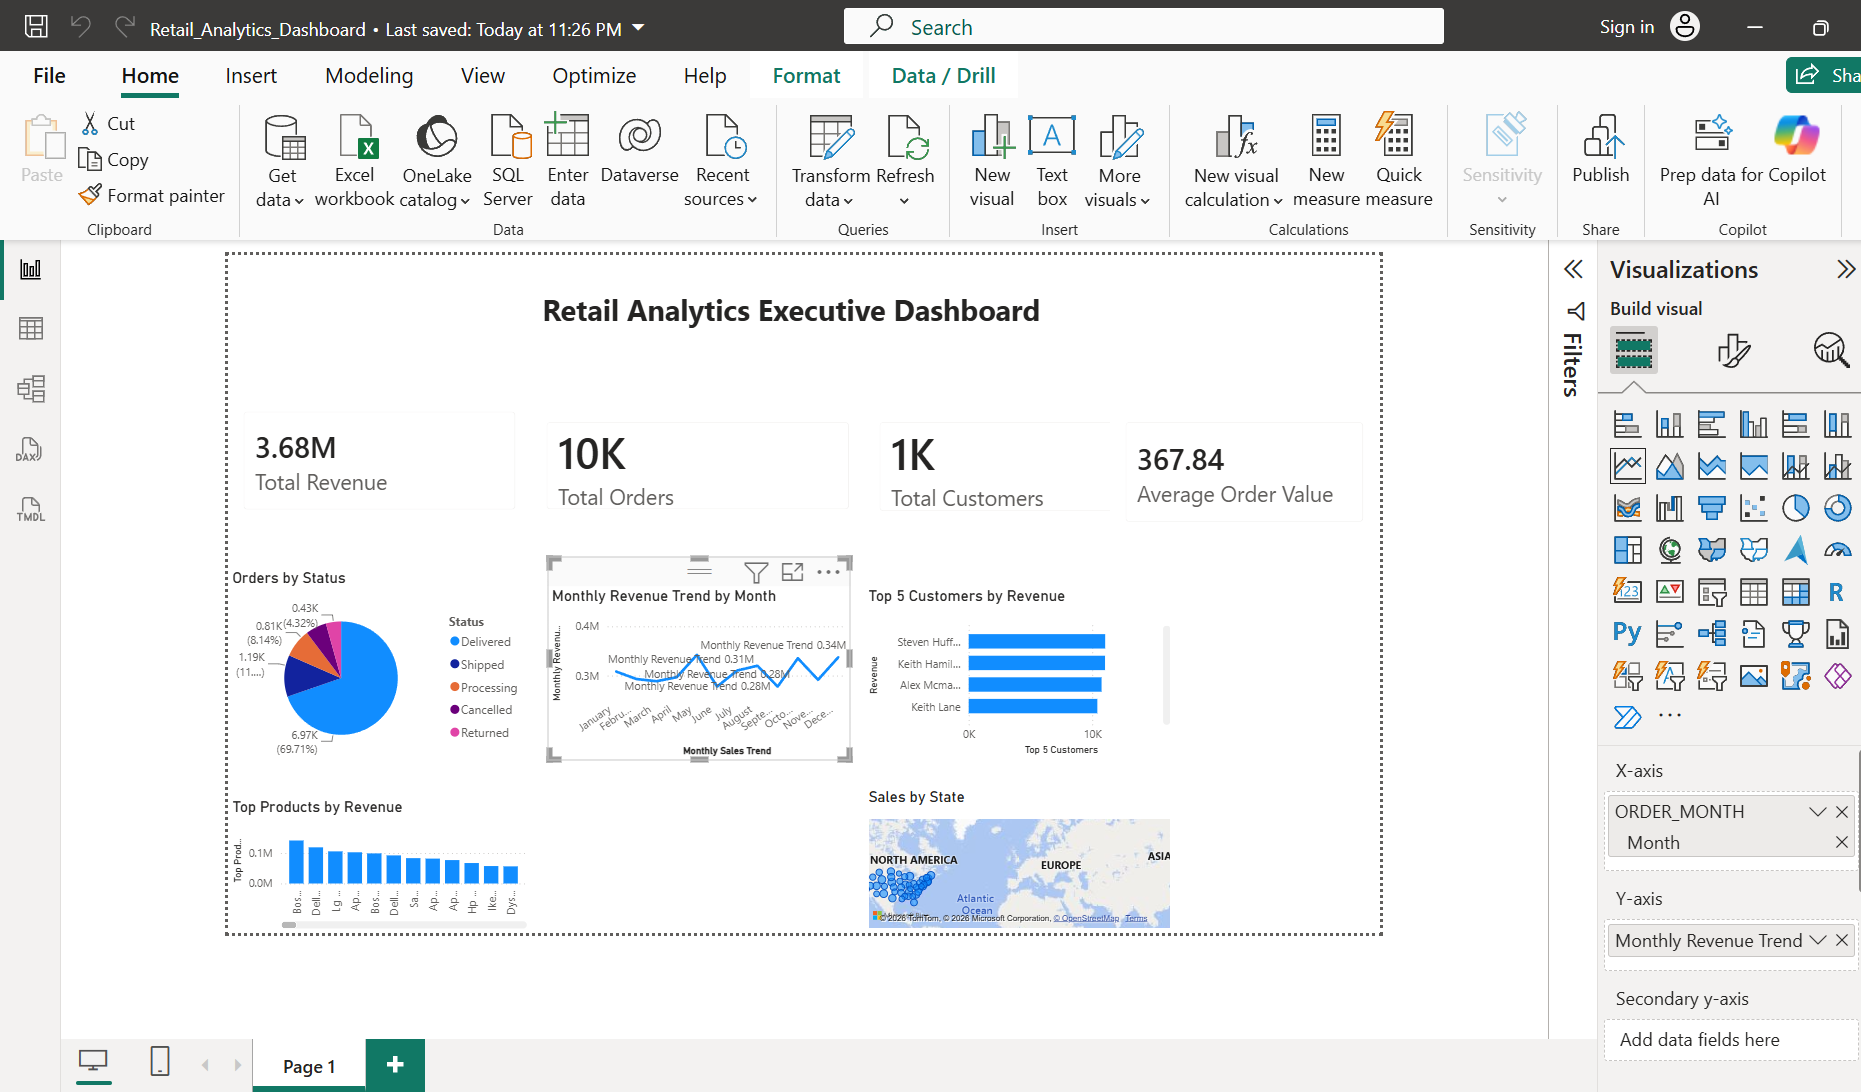

The page's visual inventory and layout, read from the dashboard file:
{"tool":"powerbi","page":{"name":"Page 1","canvas":[1280,720],"ordinal":0},"visuals":[{"type":"cardVisual","fields":{"Data":["CountNonNull(FACT_ORDERS.ORDER_ID)"]},"box":[336.7,135,370,131.7],"z":1000},{"type":"cardVisual","fields":{"Data":["CountNonNull(DIM_CUSTOMERS.CUSTOMER_ID)"]},"box":[706.7,135,356.7,133.3],"z":2000},{"type":"lineChart","fields":{"Category":["FACT_ORDERS.ORDER_MONTH.Variation.Date Hierarchy.Month"],"Y":["Sum(FACT_ORDERS.TOTAL_AMOUNT)"]},"box":[355,335,336.7,193.3],"z":3000},{"type":"pieChart","fields":{"Category":["FACT_ORDERS.ORDER_STATUS"],"Y":["CountNonNull(FACT_ORDERS.ORDER_ID)"]},"box":[0,315,336.7,213.3],"z":4000},{"type":"clusteredColumnChart","fields":{"Category":["DIM_PRODUCTS.PRODUCT_NAME"],"Y":["Sum(FACT_ORDERS.TOTAL_AMOUNT)"]},"box":[0,570,336.7,150],"z":5000},{"type":"map","title":"Sales by State","fields":{"Category":["FACT_ORDERS.SHIPPING_STATE"],"Size":["Sum(FACT_ORDERS.TOTAL_AMOUNT)"]},"box":[706.7,558.3,345,161.7],"z":6000},{"type":"clusteredBarChart","fields":{"Category":["DIM_CUSTOMERS.FULL_NAME"],"Y":["Sum(FACT_ORDERS.TOTAL_AMOUNT)"]},"box":[706.7,335,345,191.7],"z":7000},{"type":"textbox","box":[0,0,1279.4,134.2],"z":8001},{"type":"cardVisual","fields":{"Data":["Sum(FACT_ORDERS.TOTAL_AMOUNT)"]},"box":[0,123.3,336.7,143.3],"z":8002},{"type":"cardVisual","fields":{"Data":["DIM_CUSTOMERS.Average Order Value"]},"box":[980,135,298.3,145],"z":8003}]}

Visuals, with their boxes on the page's 1280x720 design canvas (x1, y1, x2, y2). These are canvas units, not pixel positions in the 1861x1092 screenshot, which may show the page scaled, cropped or inside an application window:
cardVisual - CountNonNull(FACT_ORDERS.ORDER_ID): x1=337, y1=135, x2=707, y2=267
cardVisual - CountNonNull(DIM_CUSTOMERS.CUSTOMER_ID): x1=707, y1=135, x2=1063, y2=268
lineChart - FACT_ORDERS.ORDER_MONTH.Variation.Date Hierarchy.Month x Sum(FACT_ORDERS.TOTAL_AMOUNT): x1=355, y1=335, x2=692, y2=528
pieChart - FACT_ORDERS.ORDER_STATUS x CountNonNull(FACT_ORDERS.ORDER_ID): x1=0, y1=315, x2=337, y2=528
clusteredColumnChart - DIM_PRODUCTS.PRODUCT_NAME x Sum(FACT_ORDERS.TOTAL_AMOUNT): x1=0, y1=570, x2=337, y2=720
"Sales by State" map: x1=707, y1=558, x2=1052, y2=720
clusteredBarChart - DIM_CUSTOMERS.FULL_NAME x Sum(FACT_ORDERS.TOTAL_AMOUNT): x1=707, y1=335, x2=1052, y2=527
textbox: x1=0, y1=0, x2=1279, y2=134
cardVisual - Sum(FACT_ORDERS.TOTAL_AMOUNT): x1=0, y1=123, x2=337, y2=267
cardVisual - DIM_CUSTOMERS.Average Order Value: x1=980, y1=135, x2=1278, y2=280
